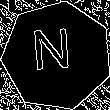N_S: (35, 29, 79, 82)
